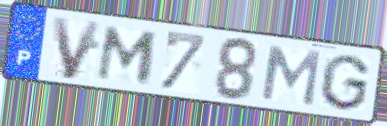7: (161, 29, 208, 93)
8: (212, 35, 261, 103)
G: (316, 53, 373, 113)
M: (258, 44, 324, 109), (94, 24, 162, 86)
V: (50, 15, 105, 82)
